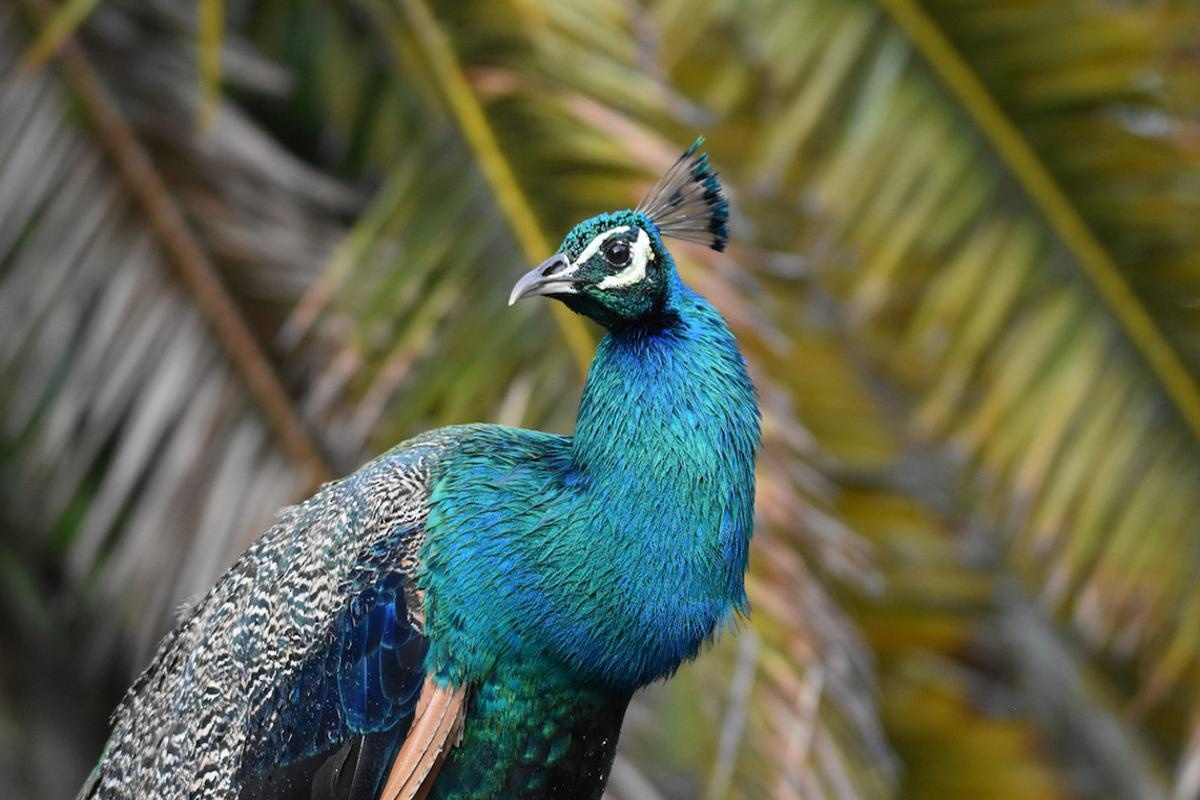peacock: (138, 117, 870, 800)
